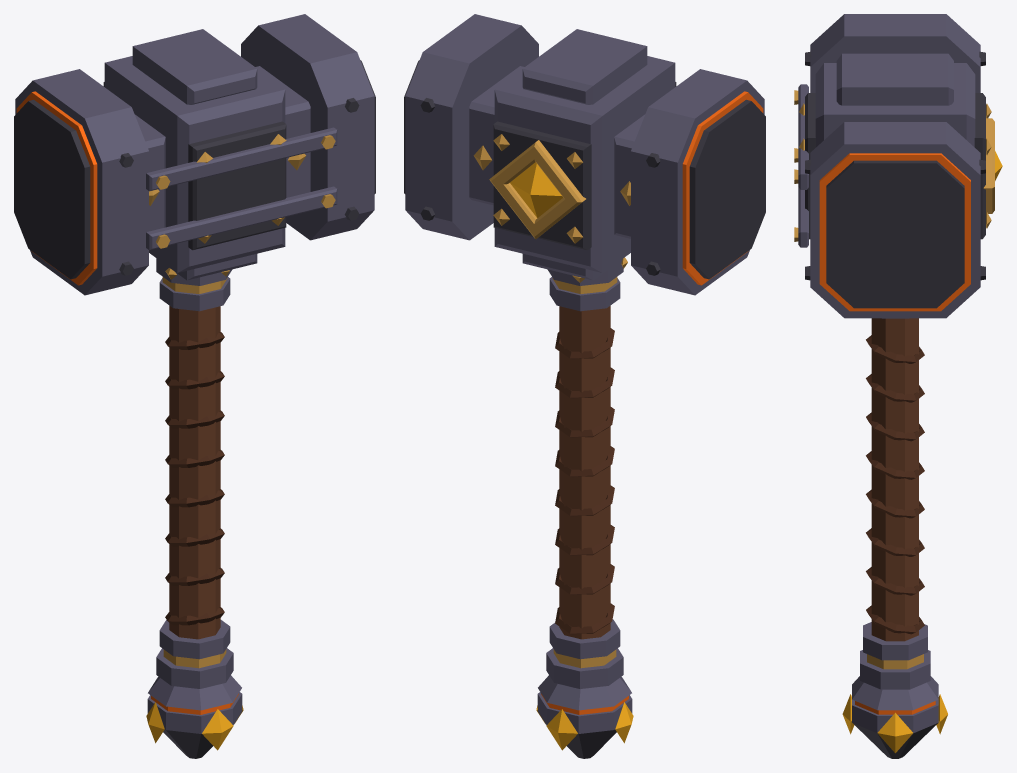
Rendered from Fantasy_Hammer.obj.
3 renders of one model, left to right at view 1: azimuth 30°, elevation 25°; view 2: azimuth 150°, elevation 25°; view 3: azimuth 270°, elevation 25°, orthographic.
Visible parts, largest first — view 1: Fantasy_Hammer; view 2: Fantasy_Hammer; view 3: Fantasy_Hammer.
Part boxes in pixels (x1=…): Fantasy_Hammer: x1=14, y1=14, x2=375, y2=758; Fantasy_Hammer: x1=404, y1=14, x2=765, y2=758; Fantasy_Hammer: x1=794, y1=14, x2=1002, y2=758.
Bounding box in the file's own units: 0.868 × 1.99 × 0.5484.
Materials: 1 (1 with a texture image).
